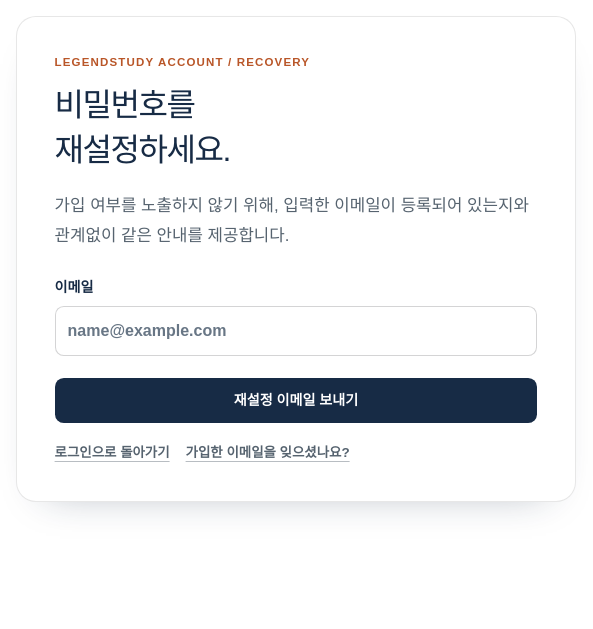
Test case: preserves recovery email endpoint and neutral notice
The width and height of the screenshot is (593, 629).
Type "student@example.test" into the field labelled "이메일" at (296, 331), box [55, 306, 537, 356]
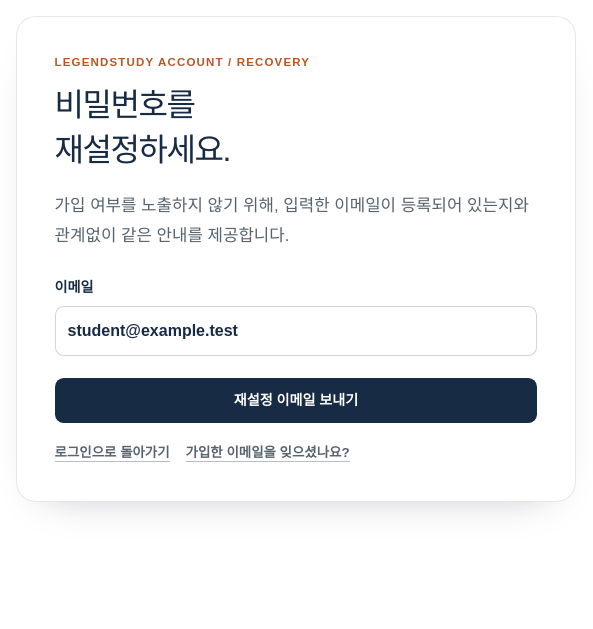
Click the button "재설정 이메일 보내기" at (296, 400), box [55, 378, 537, 422]
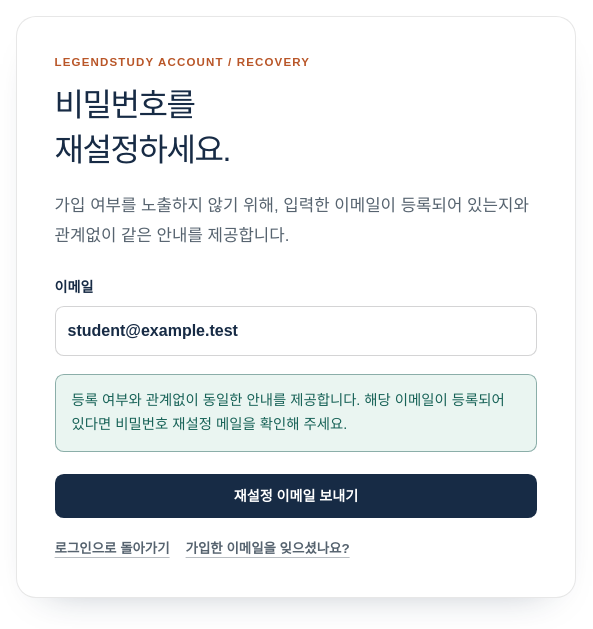
Expected: the message shows "등록 여부와 관계없이", [72, 392, 505, 432]
